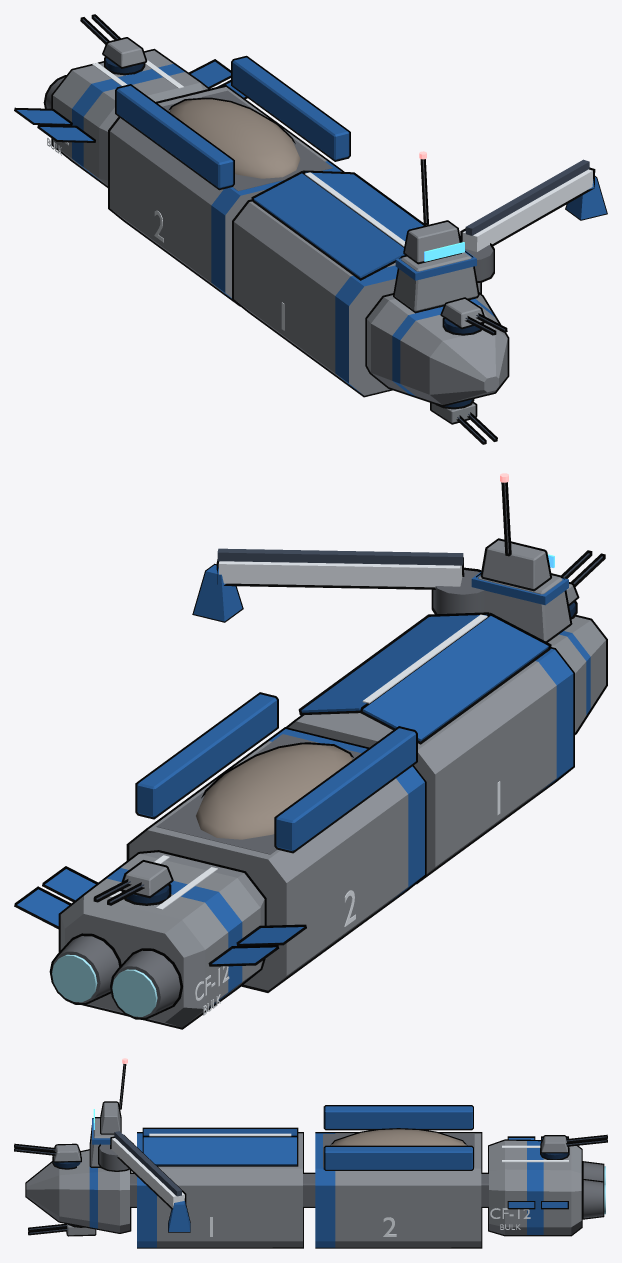
File: Cargo_Frigate_Bulk.fbx
3 renders of one model, top to bottom at view 1: azimuth 30°, elevation 25°; view 2: azimuth 150°, elevation 25°; view 3: azimuth 270°, elevation 25°, orthographic. The views are drawn at different scales.
Visible parts, largest first — view 1: Hold0, Hold1, Bow.001, Hold0_Hatch-1, Engine.001, Hold1_Ore, Hold1_Cover1, Hold1_Cover-1, Bridge_A.001, Boom_Truss, Hold0_Hatch1, Boom_Belt (+12 smaller); view 2: Hold1, Hold0, Engine.001, Hold0_Hatch-1, Hold1_Ore, Hold1_Cover-1, Hold1_Cover1, Boom_Truss, Hold0_Hatch1, Bow.001, Boom_Belt, Bridge_A.001 (+15 smaller); view 3: Hold1, Hold0, Engine.001, Bow.001, Hold0_Hatch1, Hold1_Cover1, Hold1_Cover-1, Hold1_Ore, Boom_Truss, Hold0_Hatch-1, Spine.001, Eng_N10.001 (+11 smaller).
Boxes of the visible parts, bbox=[...] form: Hold0: bbox=[232, 199, 481, 397]; Hold1: bbox=[108, 85, 344, 306]; Bow.001: bbox=[365, 292, 509, 406]; Hold0_Hatch-1: bbox=[251, 171, 404, 280]; Engine.001: bbox=[51, 48, 209, 187]; Hold1_Ore: bbox=[168, 97, 300, 178]; Hold1_Cover1: bbox=[231, 55, 350, 161]; Hold1_Cover-1: bbox=[115, 84, 234, 190]; Bridge_A.001: bbox=[393, 251, 479, 313]; Boom_Truss: bbox=[460, 167, 595, 251]; Hold0_Hatch1: bbox=[302, 170, 425, 241]; Boom_Belt: bbox=[465, 159, 589, 235]; Hold1: bbox=[126, 727, 426, 992]; Hold0: bbox=[286, 647, 574, 884]; Engine.001: bbox=[58, 850, 266, 1029]; Hold0_Hatch-1: bbox=[359, 612, 551, 744]; Hold1_Ore: bbox=[196, 742, 353, 839]; Hold1_Cover-1: bbox=[274, 726, 417, 853]; Hold1_Cover1: bbox=[135, 692, 278, 819]; Boom_Truss: bbox=[216, 557, 464, 589]; Hold0_Hatch1: bbox=[298, 612, 489, 715]; Bow.001: bbox=[548, 615, 607, 734]; Boom_Belt: bbox=[217, 548, 463, 565]; Bridge_A.001: bbox=[476, 573, 572, 642]; Hold1: bbox=[315, 1132, 482, 1248]; Hold0: bbox=[137, 1132, 303, 1248]; Engine.001: bbox=[488, 1139, 582, 1236]; Bow.001: bbox=[25, 1149, 131, 1233]; Hold0_Hatch1: bbox=[142, 1135, 298, 1166]; Hold1_Cover1: bbox=[323, 1145, 473, 1170]; Hold1_Cover-1: bbox=[323, 1105, 473, 1130]; Hold1_Ore: bbox=[330, 1128, 467, 1145]; Boom_Truss: bbox=[110, 1135, 186, 1209]; Hold0_Hatch-1: bbox=[142, 1127, 298, 1135]; Spine.001: bbox=[130, 1172, 488, 1207]; Eng_N10.001: bbox=[582, 1178, 604, 1219].
Size of the model in its own units: 27.78 by 20.26 by 62.86.
